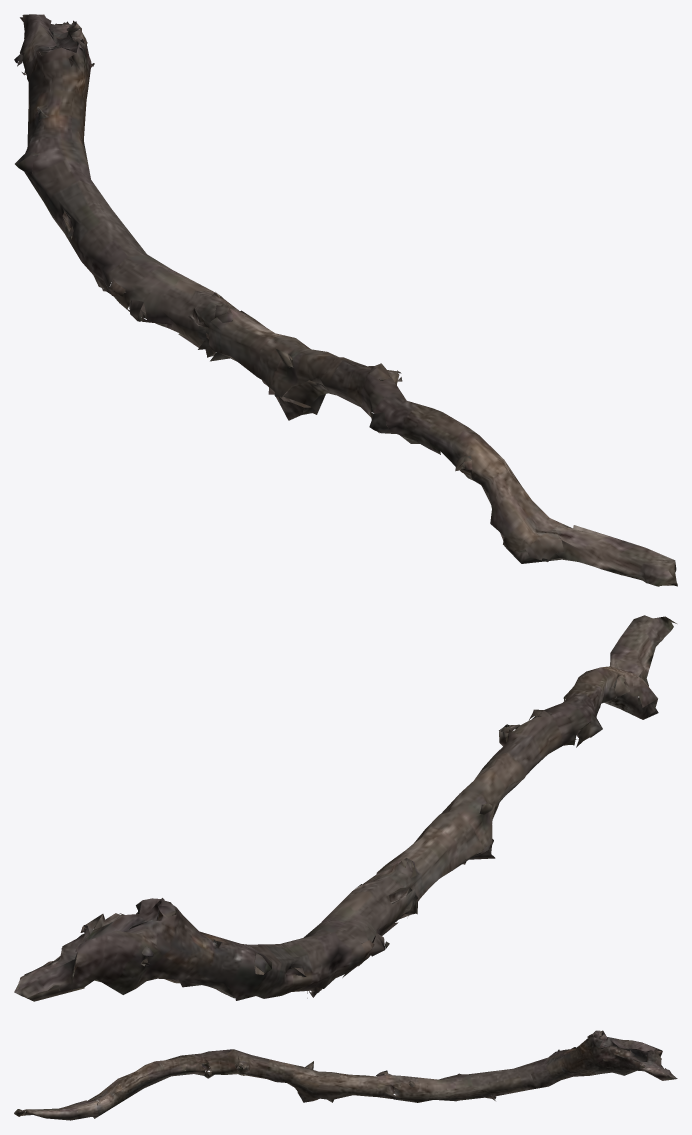
The model's file is dry_branches_medium_01_v2.glb.
3 views of the same model, one above another, from view 1: azimuth 30°, elevation 25°; view 2: azimuth 150°, elevation 25°; view 3: azimuth 270°, elevation 25° (orthographic). The views are drawn at different scales.
Visible parts, largest first — view 1: lod0; view 2: lod0; view 3: lod0.
Boxes of the visible parts, x1,y1,x2,y2 form: lod0: [14, 14, 677, 586]; lod0: [14, 615, 676, 1001]; lod0: [14, 1030, 677, 1120].
Size of what is drawn, in the model's own units: 0.149 by 0.142 by 1.04.
1 material, 1 textured.
